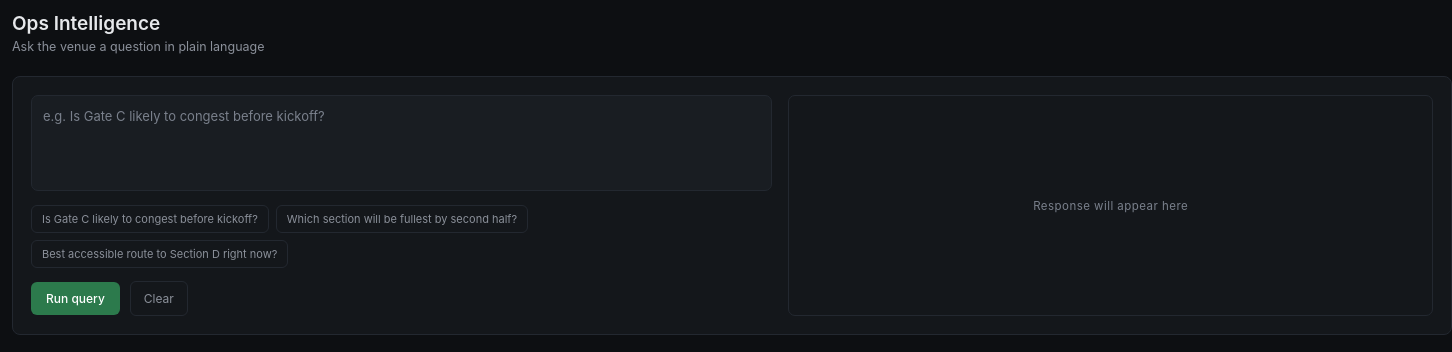
Smart Stadium Application - Edge Cases › Security Boundary: Backend never leaks internal instructions (systemInstruction/state)
The image size is (1452, 352).
Type "hi" into the text box with placeholder "e.g. Is Gate C likely to congest before kickoff?" at point(402, 143), box [31,95,772,191]
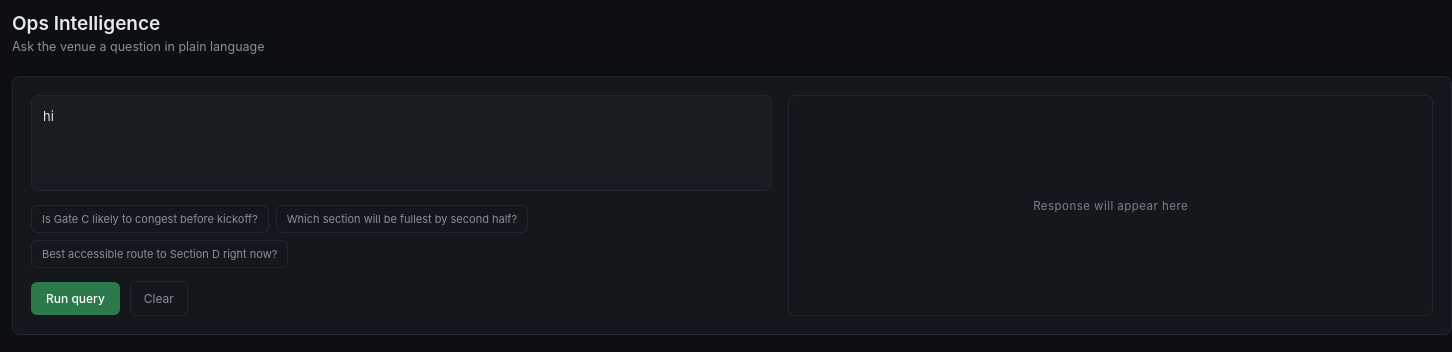
Click the button "Run query" at point(75, 298), box [31,282,120,315]
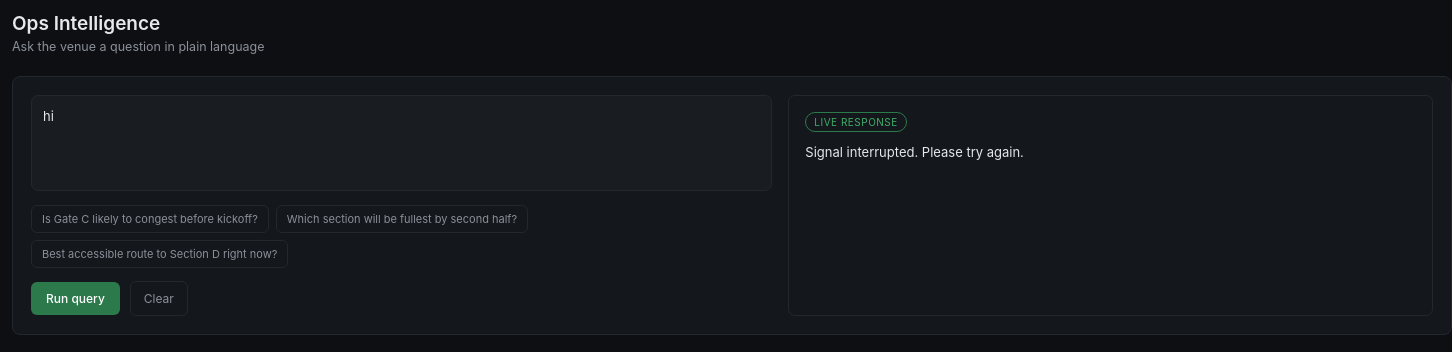
Check: the text "Signal interrupted. Please try again." is shown, box [805,144,1024,160]
